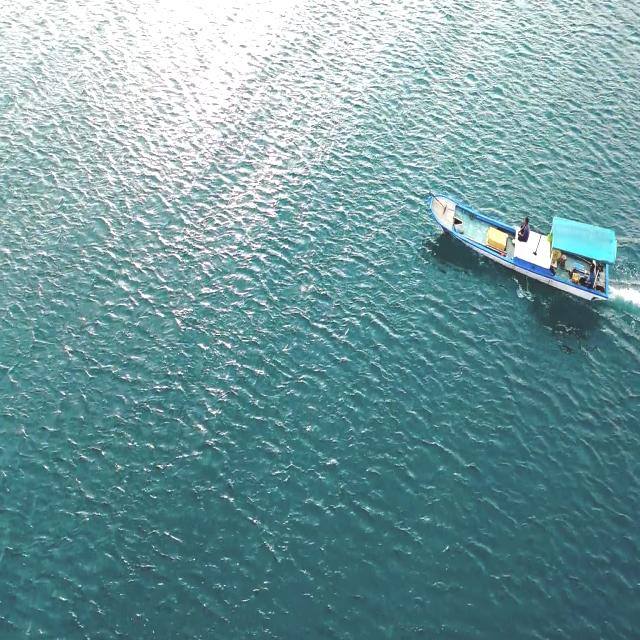ship: (424, 180, 619, 310)
